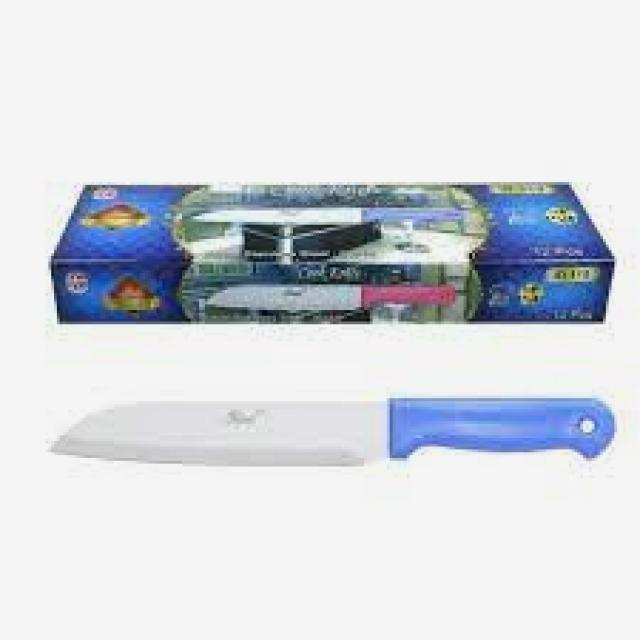Pisau: (34, 376, 624, 511)
